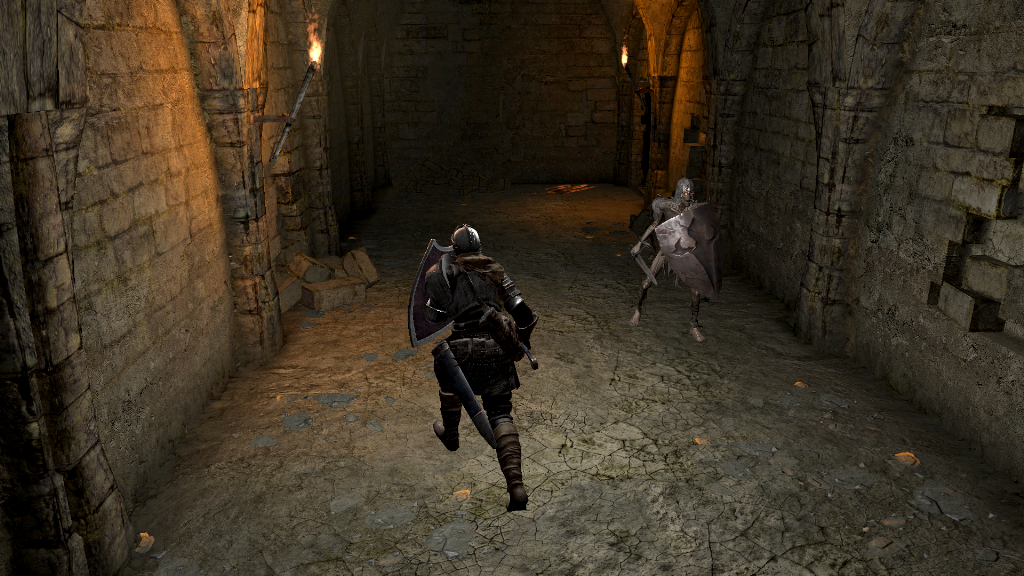player: (406, 224, 542, 514)
undeadSoldier: (630, 177, 708, 344)
